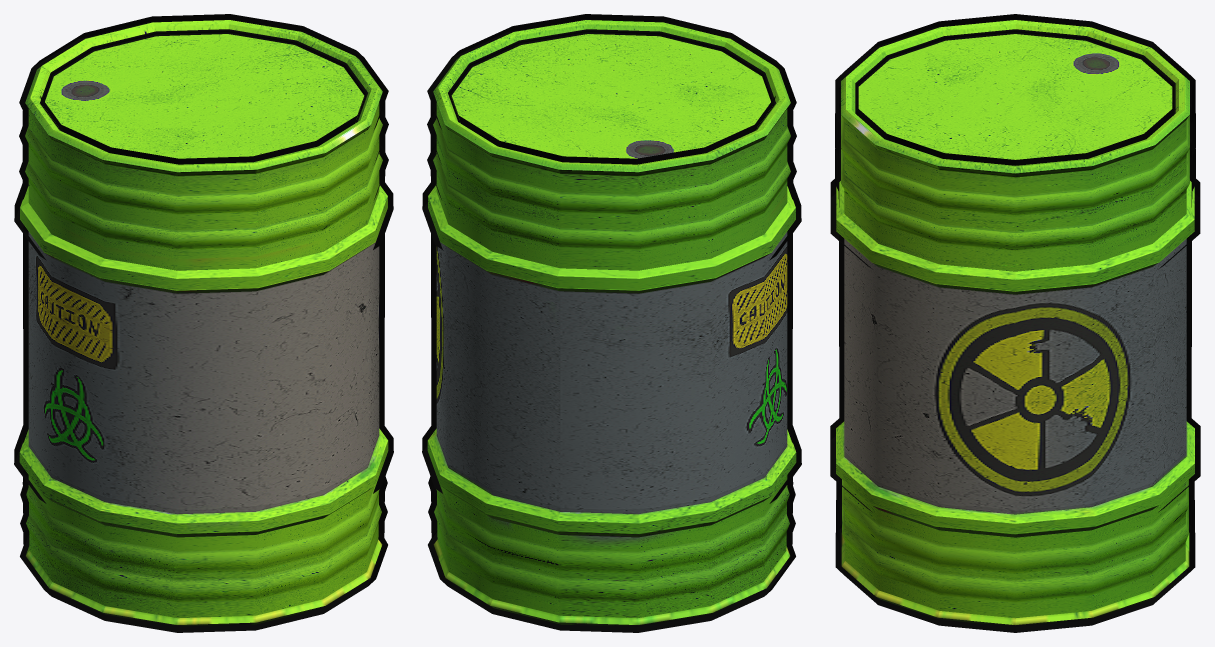
The model's file is barrel.glb.
3 views of the same model, side by side, from view 1: azimuth 30°, elevation 25°; view 2: azimuth 150°, elevation 25°; view 3: azimuth 270°, elevation 25° (orthographic).
Visible parts, largest first — view 1: Toxin_Barrel:pCylinder1, Toxin_Barrel:Outline; view 2: Toxin_Barrel:pCylinder1, Toxin_Barrel:Outline; view 3: Toxin_Barrel:pCylinder1, Toxin_Barrel:Outline.
Boxes of the visible parts, x1=… form: Toxin_Barrel:pCylinder1: x1=19, y1=20, x2=388, y2=626; Toxin_Barrel:Outline: x1=14, y1=14, x2=393, y2=632; Toxin_Barrel:pCylinder1: x1=427, y1=20, x2=796, y2=626; Toxin_Barrel:Outline: x1=422, y1=14, x2=801, y2=632; Toxin_Barrel:pCylinder1: x1=836, y1=20, x2=1194, y2=626; Toxin_Barrel:Outline: x1=830, y1=14, x2=1200, y2=632.
Bounding box in the file's own units: 0.6698 × 0.9155 × 0.6531.
Materials: 2 (1 with a texture image).
